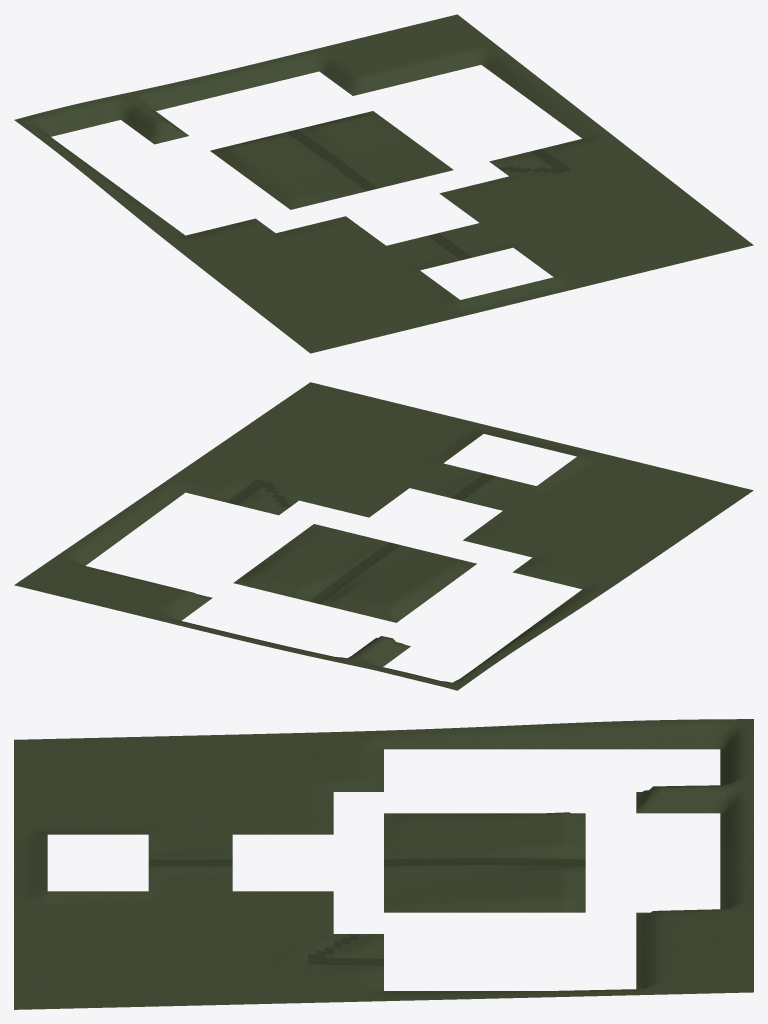
Rendered from level_site_academy_terrain.glb.
The picture shows the model from 3 angles, top to bottom: view 1: azimuth 30°, elevation 25°; view 2: azimuth 150°, elevation 25°; view 3: azimuth 270°, elevation 25°; orthographic projection. The views are drawn at different scales.
Parts seen in each view (by area): view 1: level_site_academy_terrain; view 2: level_site_academy_terrain; view 3: level_site_academy_terrain.
Boxes of the visible parts, bbox=[...] form: level_site_academy_terrain: bbox=[14, 14, 753, 353]; level_site_academy_terrain: bbox=[14, 382, 753, 690]; level_site_academy_terrain: bbox=[14, 719, 753, 1009].
Bounding box in the file's own units: 76 × 2.85 × 88.
Materials: 2 (2 with a texture image).
